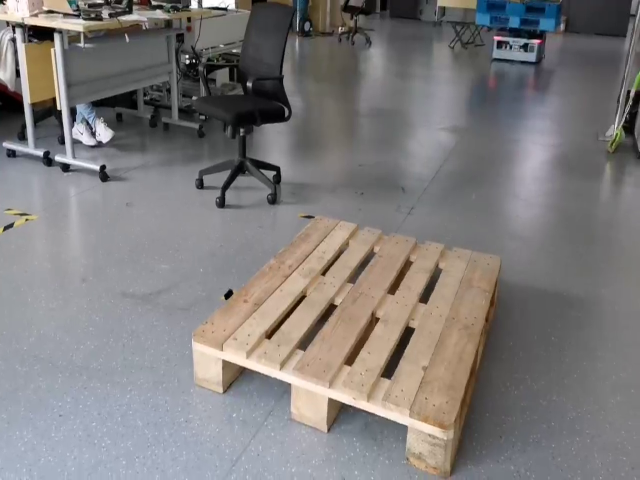block: (404, 417, 451, 478), (288, 379, 331, 433), (190, 339, 224, 395)
front: (190, 337, 455, 473)
hole pallet: (329, 399, 408, 460), (222, 360, 292, 417)
